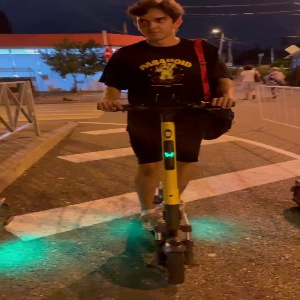human on a scooter: (96, 1, 238, 284)
